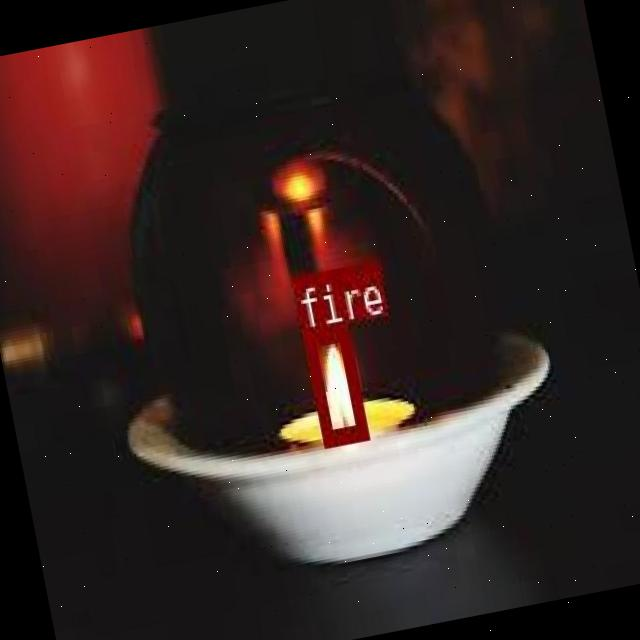fire: (300, 324, 367, 446)
